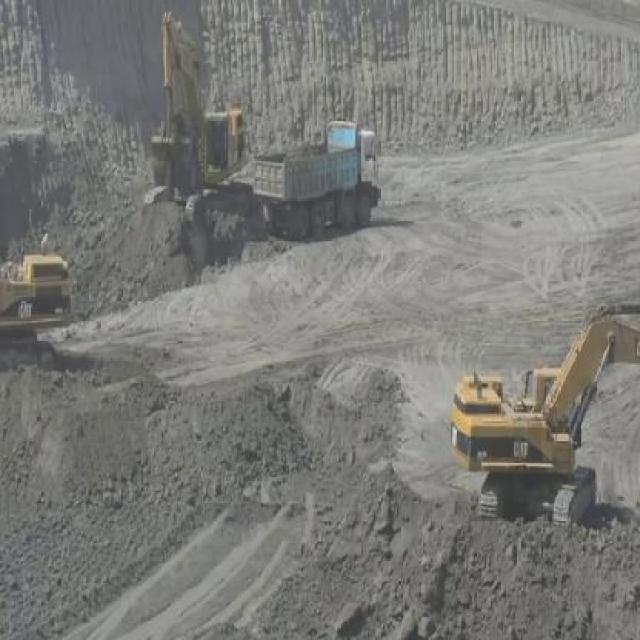Dump Truck: (253, 118, 379, 236)
Excavator: (450, 304, 639, 528), (144, 9, 258, 228), (0, 234, 72, 368)
